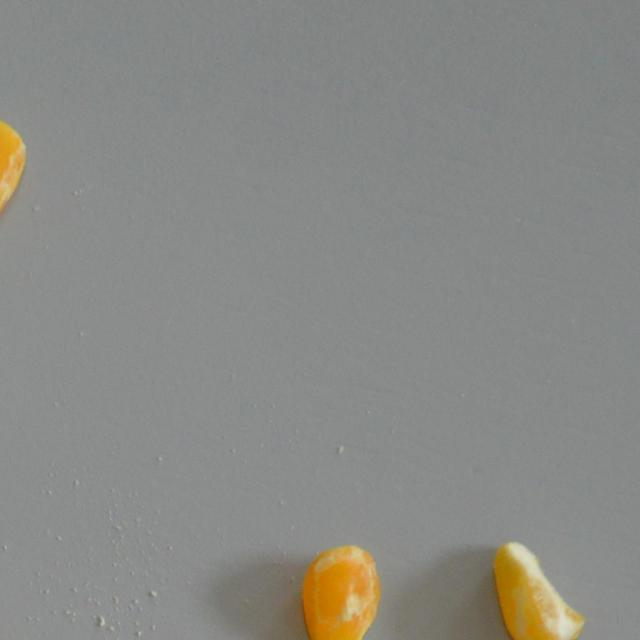dañado: (296, 542, 383, 640), (0, 114, 27, 236)
pelicula: (490, 534, 586, 640)
